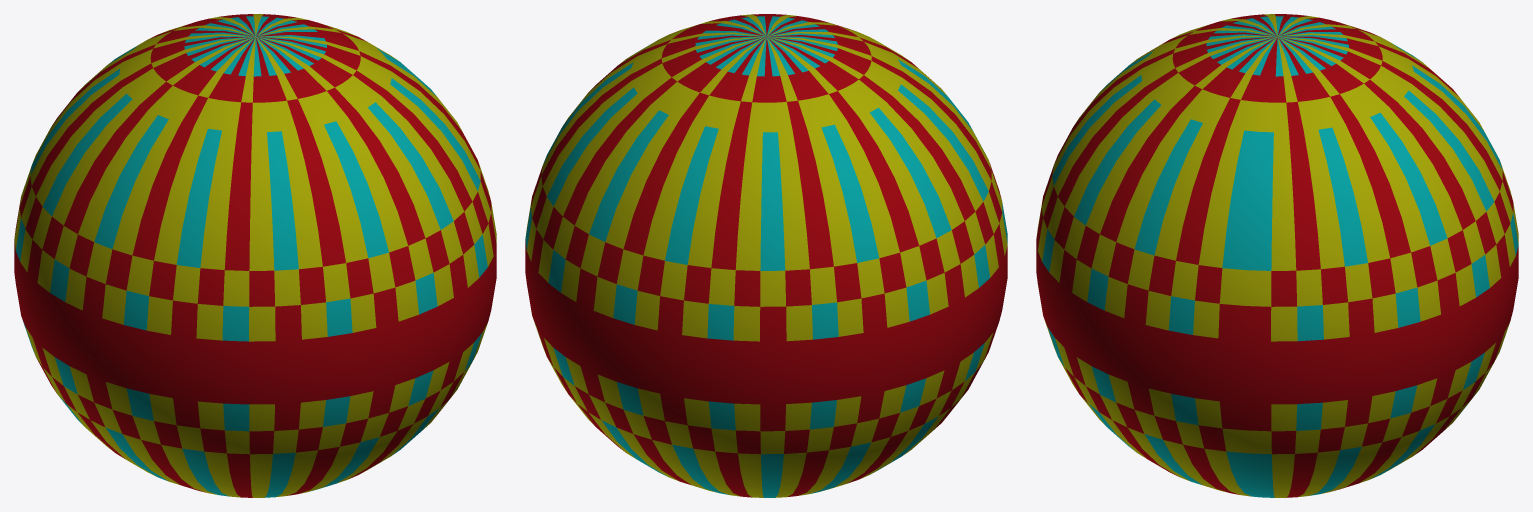
The model's file is 鞠unity.fbx.
3 renders of one model, left to right at view 1: azimuth 30°, elevation 25°; view 2: azimuth 150°, elevation 25°; view 3: azimuth 270°, elevation 25°, orthographic.
Parts seen in each view (by area): view 1: obj1; view 2: obj1; view 3: obj1.
Part boxes in pixels (x1,y1,x2,y2): obj1: [14, 14, 496, 497]; obj1: [525, 14, 1007, 497]; obj1: [1036, 14, 1518, 497].
Bounding box in the file's own units: 123 × 123 × 123.
